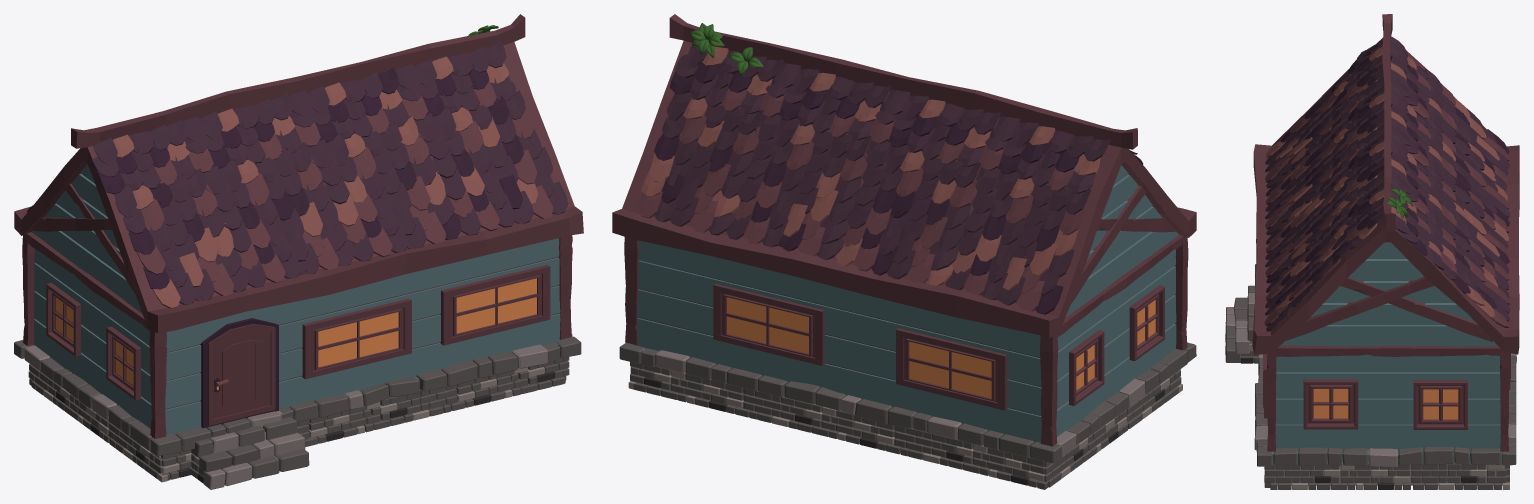
File: casa-madeira11.fbx
3 renders of one model, left to right at view 1: azimuth 30°, elevation 25°; view 2: azimuth 150°, elevation 25°; view 3: azimuth 270°, elevation 25°, orthographic. The views are drawn at different scales.
Parts seen in each view (by area): view 1: Cube.298, porta.007; view 2: Cube.298; view 3: Cube.298.
Part boxes in pixels (left/top/right/bottom): Cube.298: left=14, top=14, right=583, bottom=489; porta.007: left=208, top=323, right=275, bottom=425; Cube.298: left=612, top=14, right=1196, bottom=489; Cube.298: left=1225, top=14, right=1519, bottom=489.
Bounding box in the file's own units: 699 × 461 × 430.
